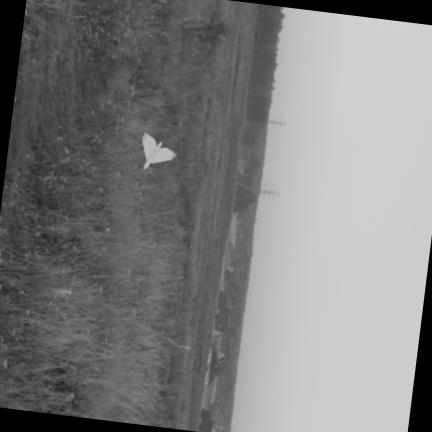Shahed: (140, 133, 175, 168)
